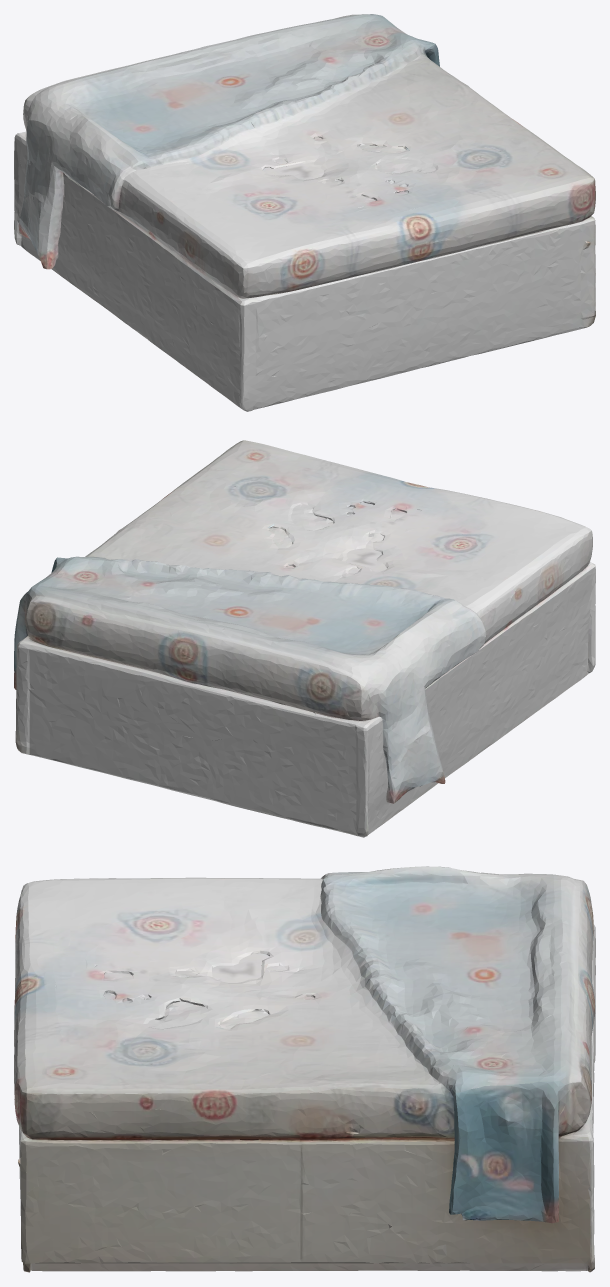
Rendered from ast_1ddb5e7e233c.glb.
3 renders of one model, top to bottom at view 1: azimuth 30°, elevation 25°; view 2: azimuth 150°, elevation 25°; view 3: azimuth 270°, elevation 25°, orthographic. The views are drawn at different scales.
Visible parts, largest first — view 1: geometry_0; view 2: geometry_0; view 3: geometry_0.
Part boxes in pixels (<box>): geometry_0: <box>14,14,595,411</box>; geometry_0: <box>14,440,595,837</box>; geometry_0: <box>14,866,595,1272</box>.
Bounding box in the file's own units: 0.9938 × 0.3925 × 1.
Materials: 1 (1 with a texture image).
